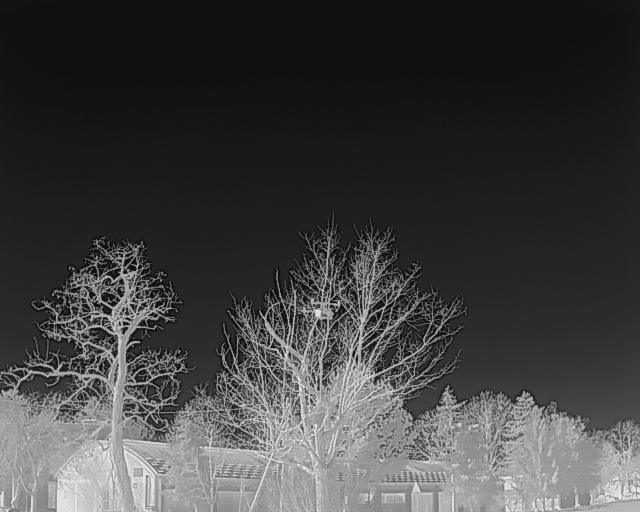drone: (299, 293, 346, 326)
